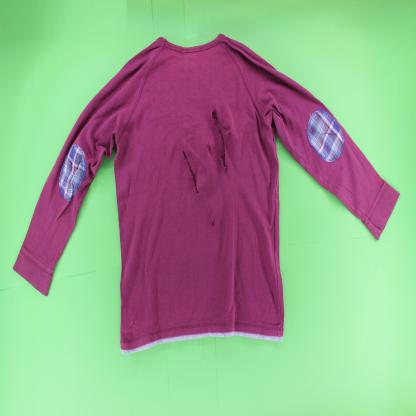hole: (208, 106, 229, 177), (180, 145, 202, 196)
